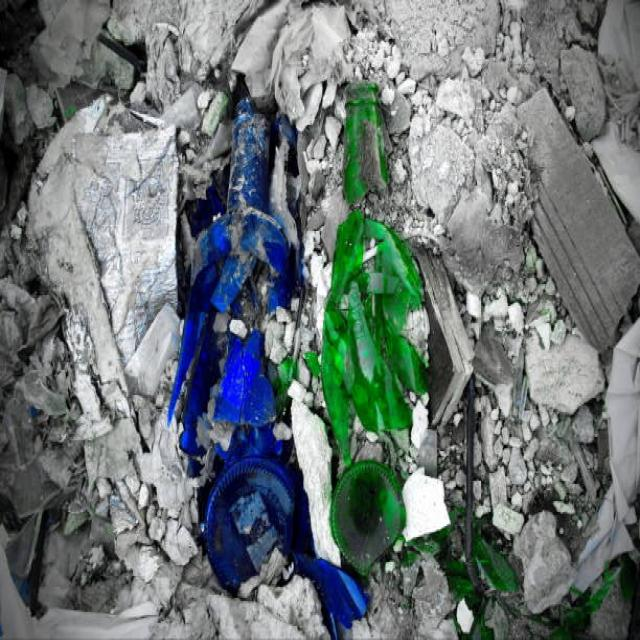electronic: (166, 81, 426, 640)
